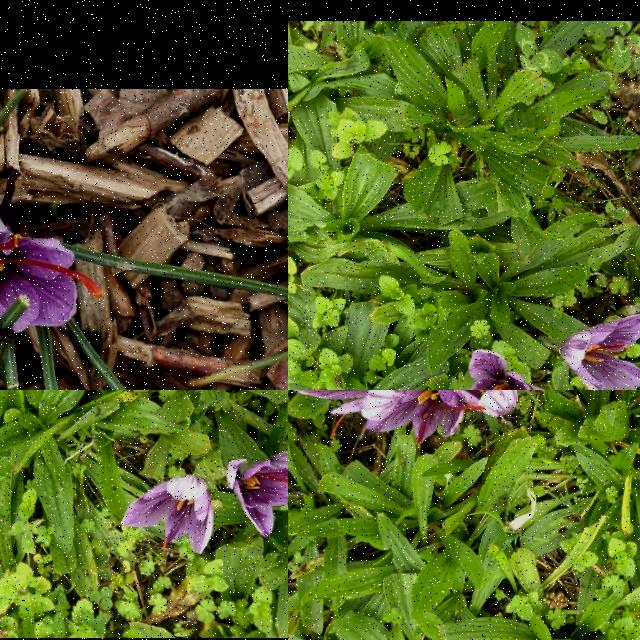flower: (0, 209, 102, 340), (122, 474, 215, 556), (560, 315, 640, 390), (457, 349, 583, 390)
overlap: (288, 390, 518, 445), (227, 449, 288, 538)
